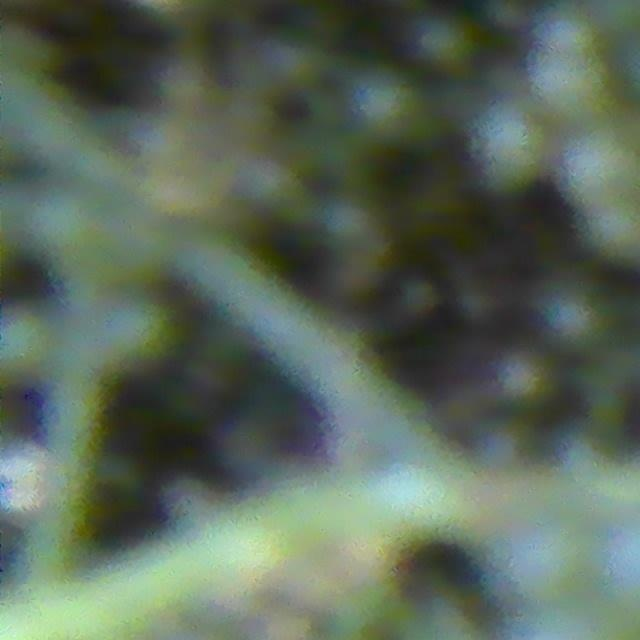SeaGrape: (340, 66, 426, 148), (499, 528, 585, 604), (562, 131, 640, 201), (532, 41, 605, 114), (474, 115, 549, 182), (539, 281, 609, 352), (409, 12, 475, 73), (0, 307, 53, 381), (539, 9, 607, 65), (581, 192, 640, 256)
